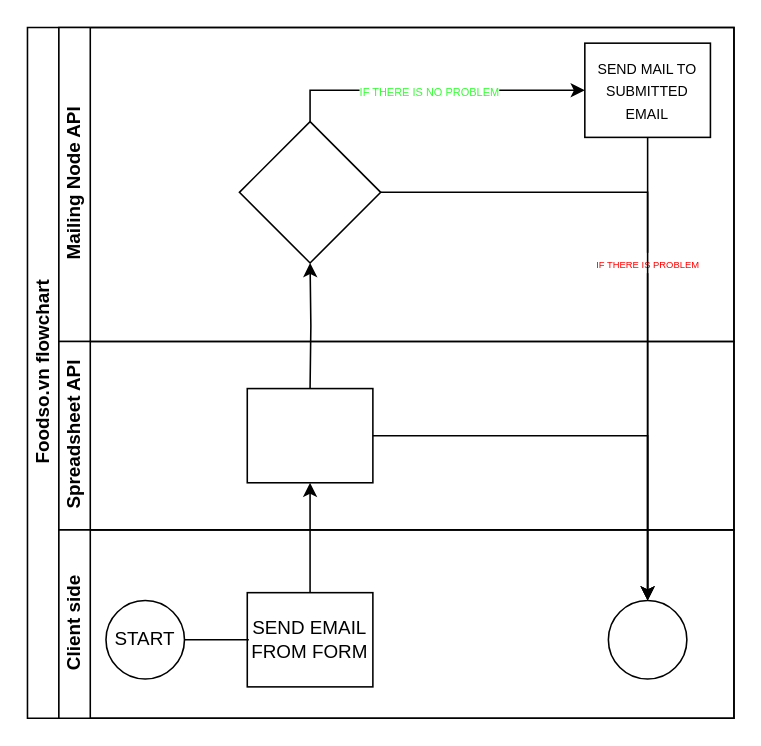
This 761x746 diagram has some shape labels left out. Here are the shapes that lost their labels. From the top down, the centre of each, then its label:
At point 309,191: "FUNCTION INSIDE API".
At point 309,435: "WRITE EMAIL TO SHEET".
At point 647,639: "DONE".
